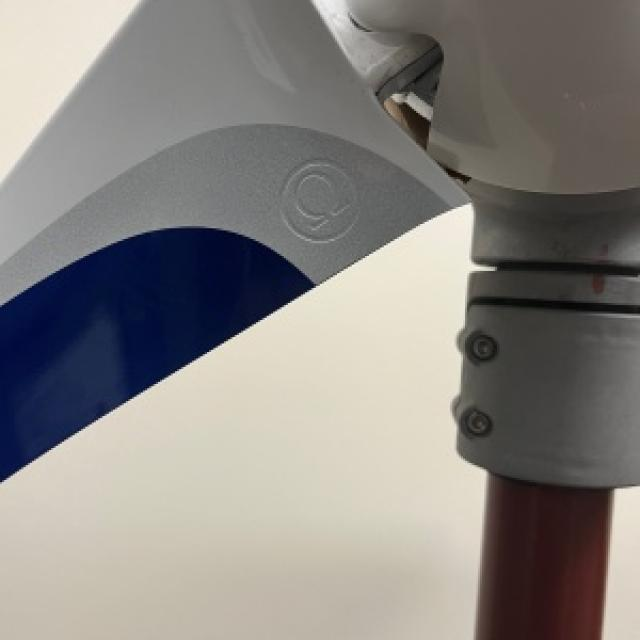healthy: (602, 486, 638, 638)
